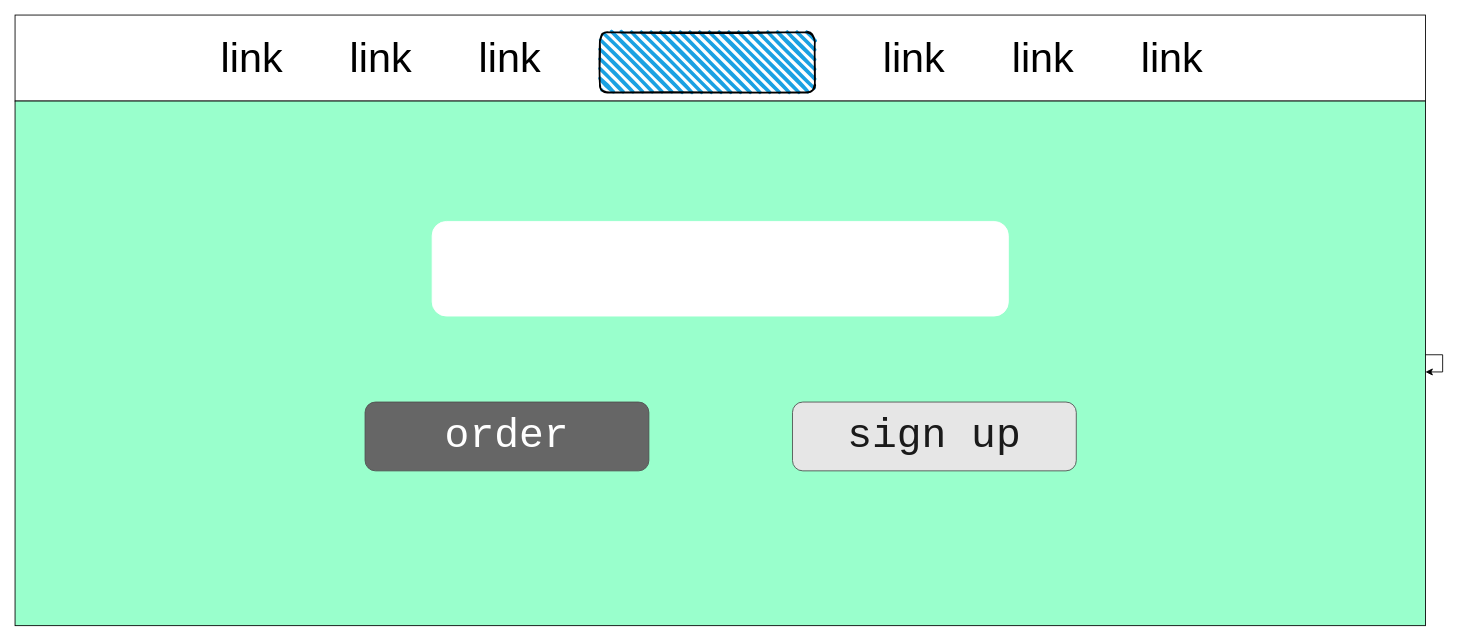
The diagram is 1465 pixels wide and 641 high, and some of its shapes have lost their labels. The shapes that lost their labels are listed below. From the top down, each one's centre as x and y in pixels, then its label:
the point at 707,62: logo
the point at 719,268: BIG TITLE
